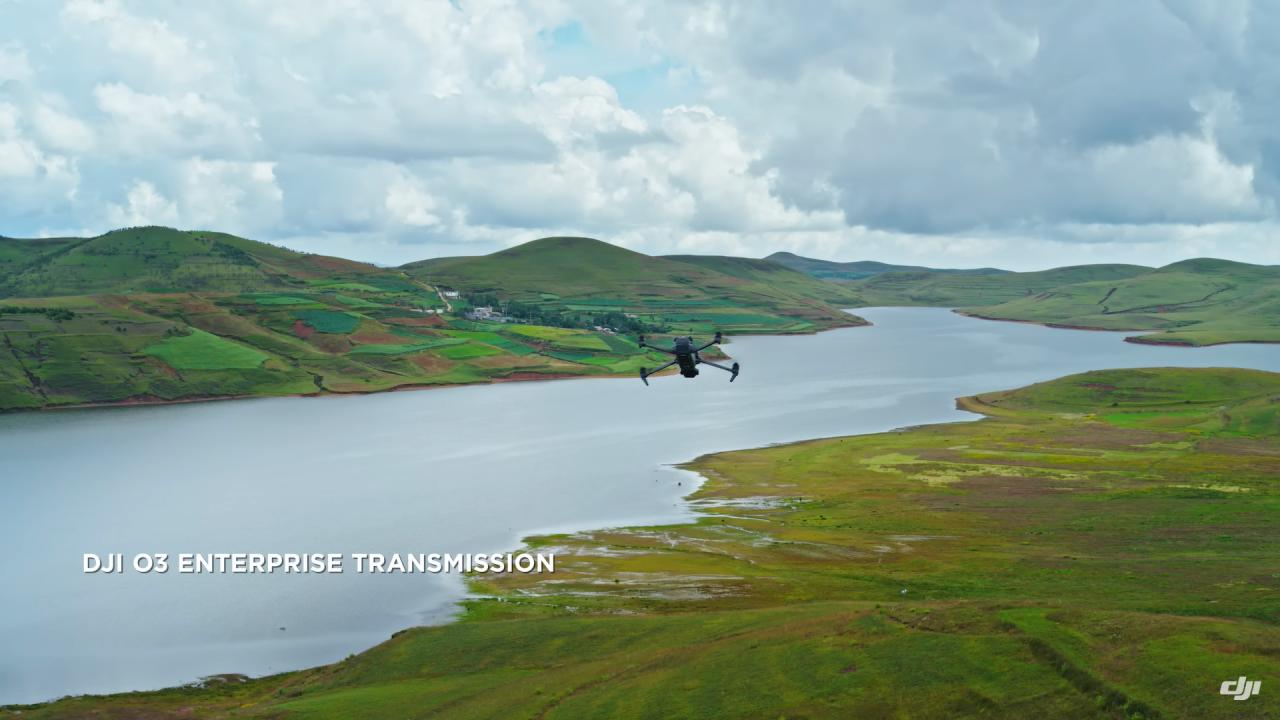Drone: (620, 317, 750, 398)
